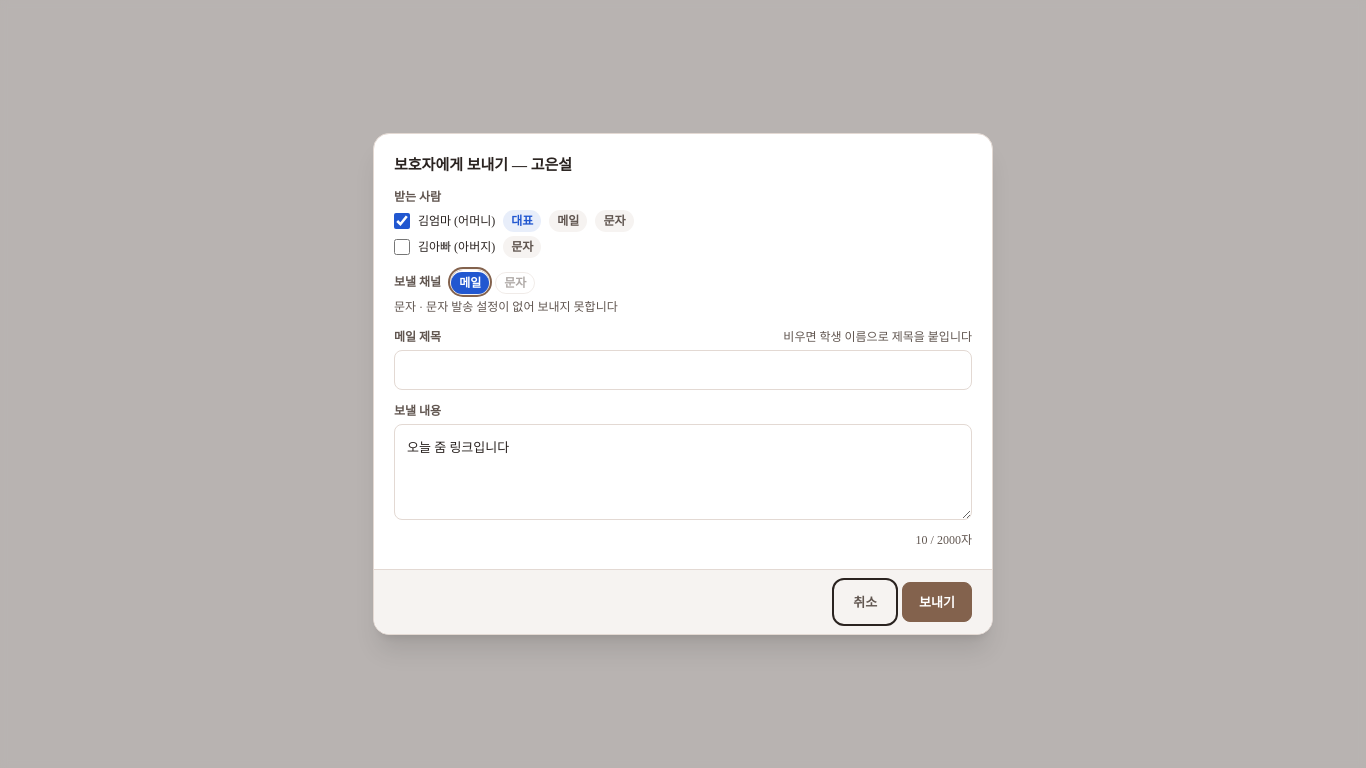
Test case: 보내기 — 고른 것만 보내고 서버 원장 결과(「설정 없음 — 보내지 않았습니다」)를 그대로 그린다
What coordinates should you click on to do the following:
click the button "보내기"
I would click on:
 (937, 602)
Its box is x1=902 y1=582 x2=972 y2=622.
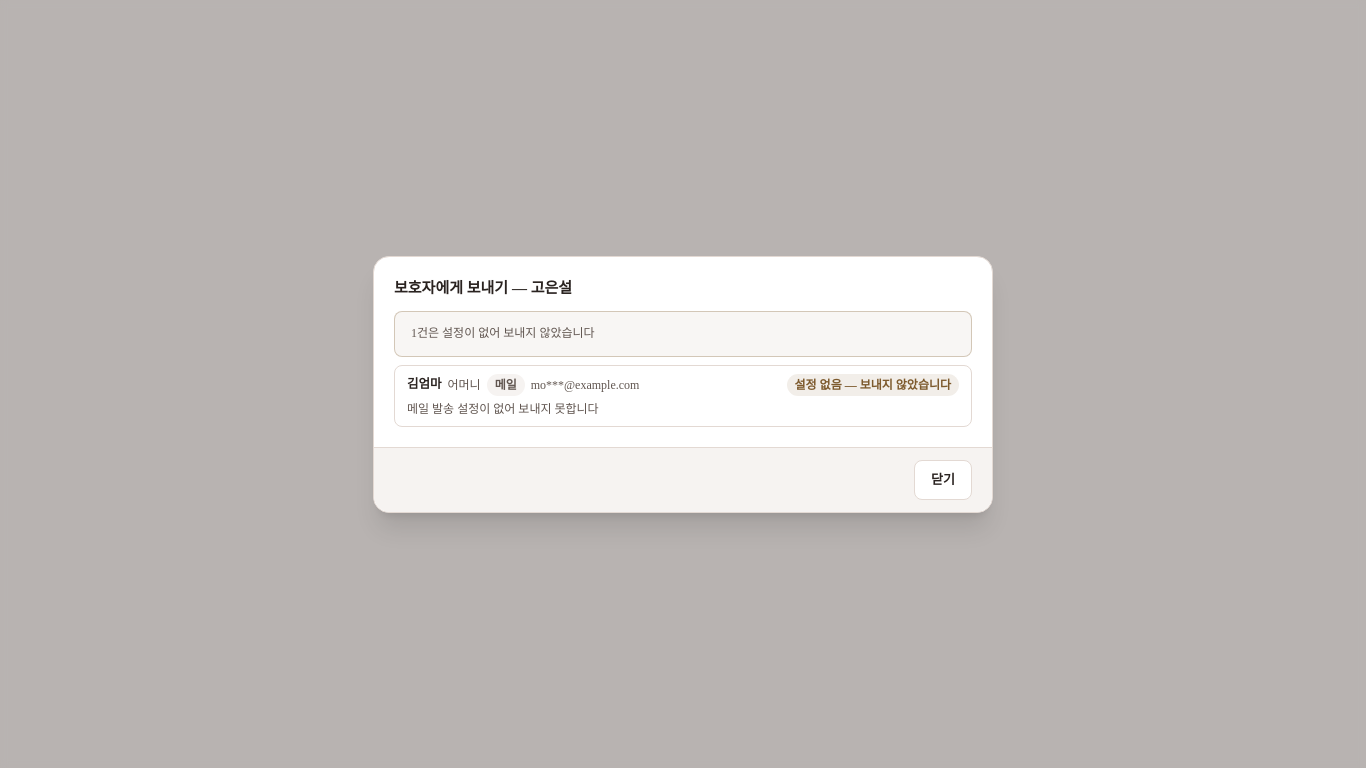
Expected: the element named "보낸 결과" shows "1건은 설정이 없어 보내지 않았습니다", x1=411 y1=326 x2=595 y2=340
Expected: the element named "보낸 결과" shows "김엄마", x1=407 y1=377 x2=442 y2=391
Expected: the element named "보낸 결과" shows "mo***@example.com", x1=531 y1=378 x2=639 y2=392
